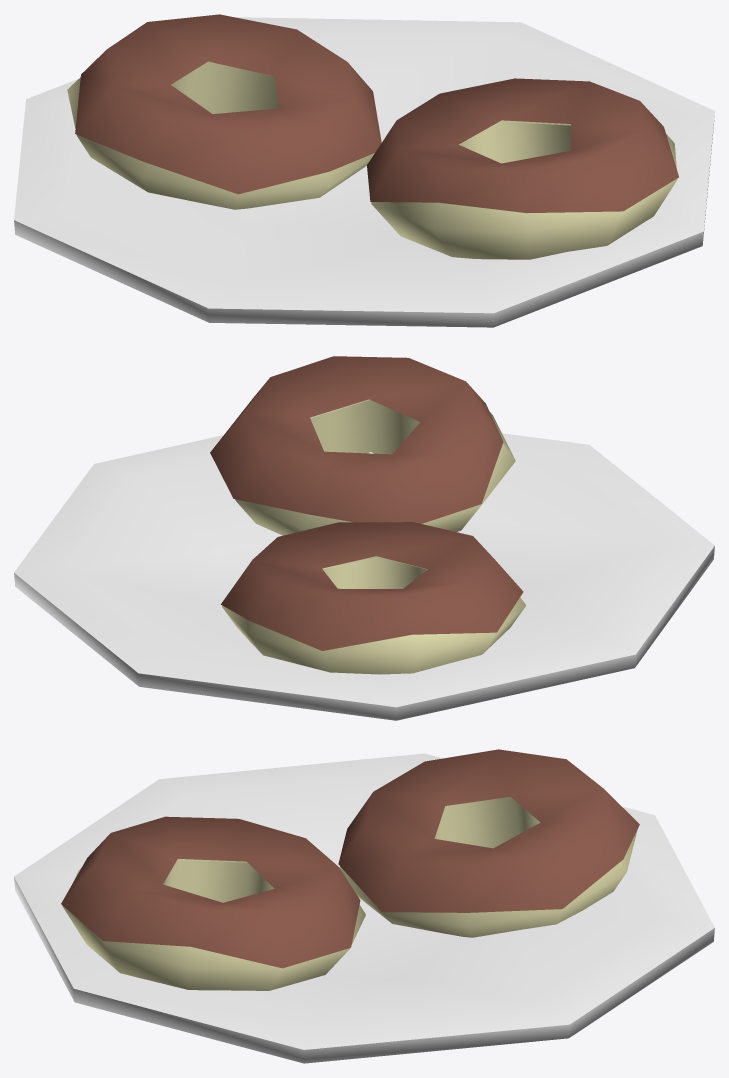
Rendered from shop_056.glb.
3 views of the same model, one above another, from view 1: azimuth 30°, elevation 25°; view 2: azimuth 150°, elevation 25°; view 3: azimuth 270°, elevation 25° (orthographic). The views are drawn at different scales.
Parts seen in each view (by area): view 1: shop_056; view 2: shop_056; view 3: shop_056.
Boxes of the visible parts, left/top/right/bottom form: shop_056: left=14, top=14, right=714, bottom=327; shop_056: left=14, top=356, right=714, bottom=720; shop_056: left=14, top=749, right=714, bottom=1063.
Bounding box in the file's own units: 0.2204 × 0.0452 × 0.2201.
Materials: 1 (1 with a texture image).
